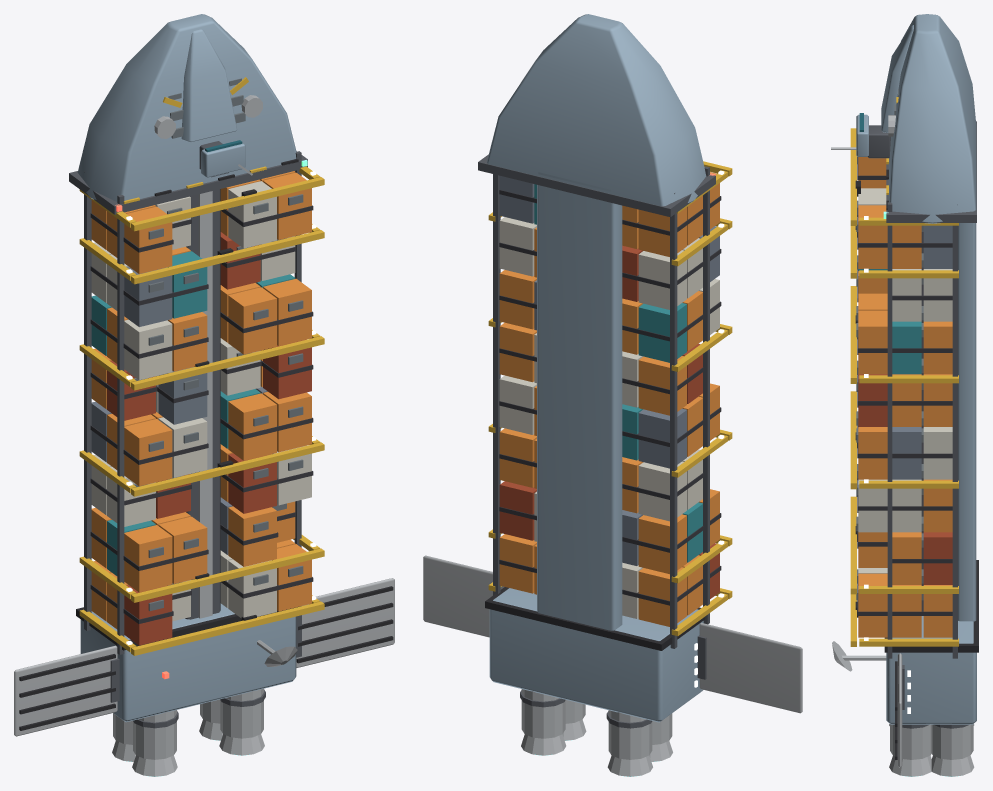
File: freighter.glb
3 views of the same model, side by side, from view 1: azimuth 30°, elevation 25°; view 2: azimuth 150°, elevation 25°; view 3: azimuth 270°, elevation 25° (orthographic).
Parts seen in each view (by area): view 1: Prow, Engine section, Radiator wing, Radiator wing.001, Keel spine, Prow ridge, Spine catwalk, Yard rail.001, Yard rail, Container.029, Container.051, Container.048 (+46 smaller); view 2: Ventral keel, Prow, Engine section, Radiator wing, Radiator wing.001, Yard rail, Yard rail.002, Yard rail.001, Bow collar, Container.024, Container.046, Container.068 (+28 smaller); view 3: Prow, Ventral keel, Engine section, Yard rail.003, Yard rail.002, Container.032, Container.086, Container.010, Container.031, Container.030, Container.052, Container.053 (+43 smaller).
Part boxes in pixels (left/top/right/bottom): Prow: left=77, top=14, right=296, bottom=201; Engine section: left=80, top=603, right=296, bottom=722; Radiator wing: left=14, top=645, right=117, bottom=736; Radiator wing.001: left=296, top=578, right=394, bottom=667; Keel spine: left=185, top=189, right=220, bottom=619; Prow ridge: left=181, top=29, right=237, bottom=142; Spine catwalk: left=198, top=191, right=212, bottom=618; Yard rail.001: left=117, top=195, right=124, bottom=654; Yard rail: left=84, top=171, right=91, bottom=630; Container.029: left=228, top=287, right=276, bottom=354; Container.051: left=228, top=393, right=276, bottom=460; Container.048: left=124, top=419, right=172, bottom=486; Ventral keel: left=537, top=172, right=622, bottom=630; Prow: left=486, top=14, right=706, bottom=206; Engine section: left=489, top=588, right=703, bottom=722; Radiator wing: left=699, top=623, right=802, bottom=713; Radiator wing.001: left=423, top=555, right=504, bottom=637; Yard rail: left=670, top=193, right=677, bottom=648; Yard rail.002: left=493, top=174, right=500, bottom=595; Yard rail.001: left=703, top=166, right=709, bottom=624; Bow collar: left=478, top=154, right=715, bottom=217; Container.024: left=638, top=303, right=686, bottom=362; Container.046: left=638, top=408, right=686, bottom=468; Container.068: left=638, top=514, right=686, bottom=574; Prow: left=888, top=14, right=976, bottom=223; Ventral keel: left=958, top=146, right=976, bottom=621; Engine section: left=886, top=616, right=976, bottom=724; Yard rail.003: left=887, top=202, right=892, bottom=658; Yard rail.002: left=952, top=204, right=957, bottom=658; Container.032: left=858, top=310, right=887, bottom=374; Container.086: left=858, top=573, right=887, bottom=637; Container.010: left=858, top=205, right=887, bottom=268; Container.031: left=892, top=321, right=921, bottom=374; Container.030: left=923, top=321, right=952, bottom=374; Container.052: left=923, top=427, right=952, bottom=479; Container.053: left=892, top=427, right=921, bottom=479.
Size of the model in its own units: 4.8 by 8.82 by 1.63.
